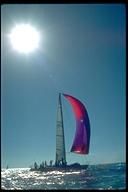sailboat: (27, 90, 93, 173)
sky: (45, 6, 124, 90)
sun: (5, 21, 44, 55)
water: (2, 172, 125, 187)
